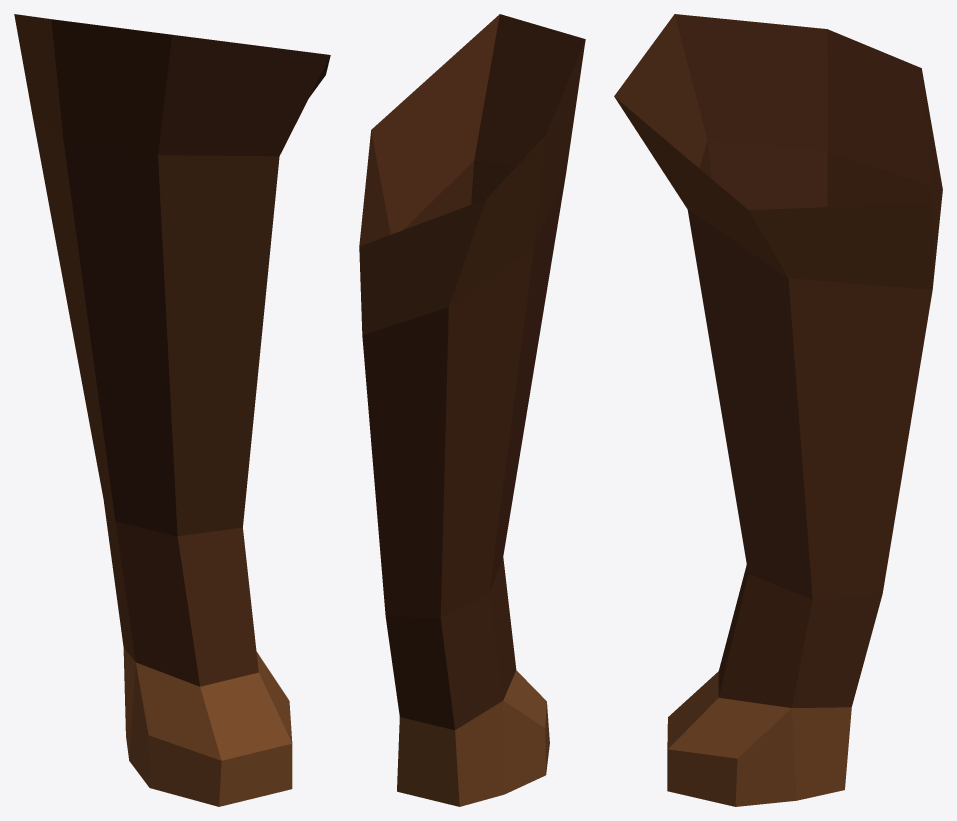
The model's file is zampa_dx_av_dog.obj.
3 views of the same model, side by side, from view 1: azimuth 30°, elevation 25°; view 2: azimuth 150°, elevation 25°; view 3: azimuth 270°, elevation 25° (orthographic). The views are drawn at different scales.
Parts seen in each view (by area): view 1: zampa_dx_av; view 2: zampa_dx_av; view 3: zampa_dx_av.
Part boxes in pixels (bbox=[...]): zampa_dx_av: bbox=[14, 14, 330, 806]; zampa_dx_av: bbox=[359, 14, 585, 806]; zampa_dx_av: bbox=[614, 14, 942, 806].
Bounding box in the file's own units: 0.0993 × 0.3185 × 0.1311.
